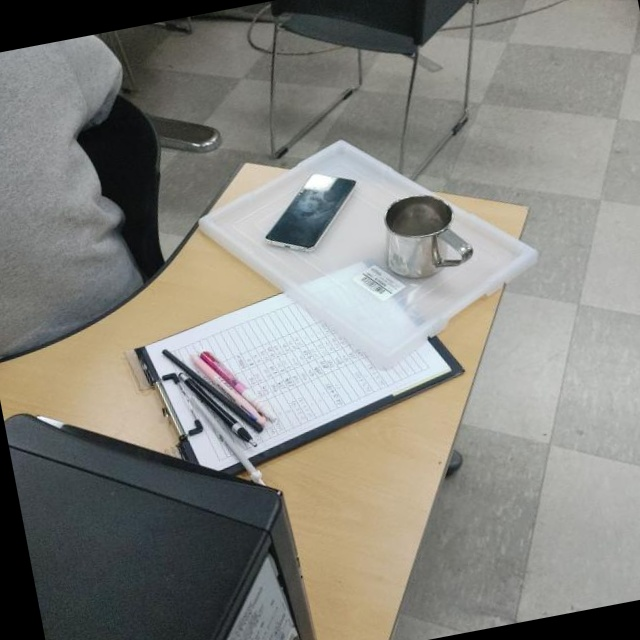cup: (375, 184, 477, 285)
phone: (255, 164, 368, 264)
